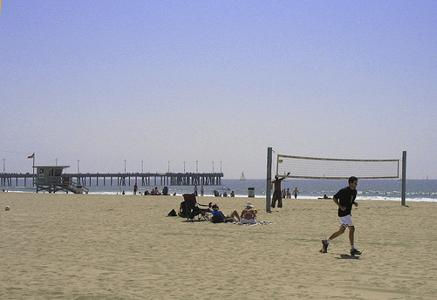person: (319, 177, 364, 258)
